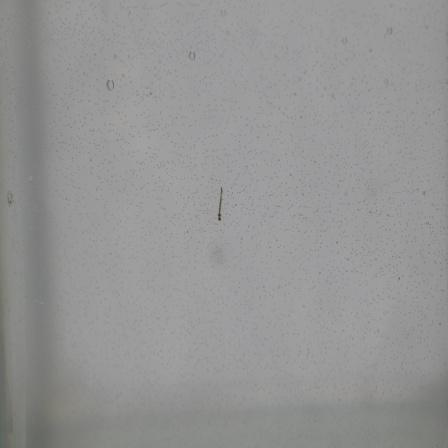Jentik-Nyamuk: (215, 183, 227, 223)
